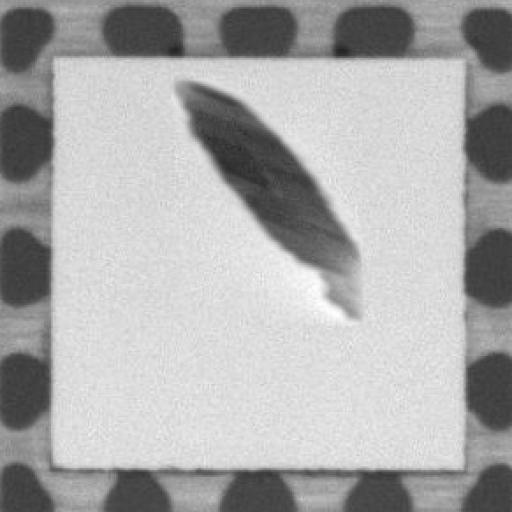DIE_INK: (163, 70, 363, 328)
